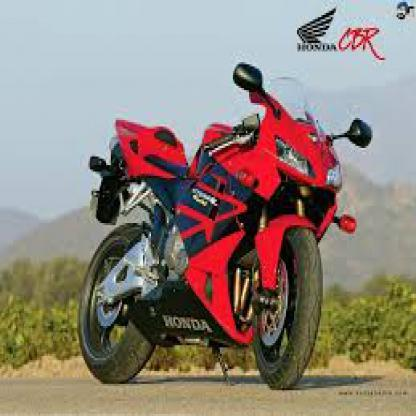Motorcycle: (70, 57, 375, 402)
